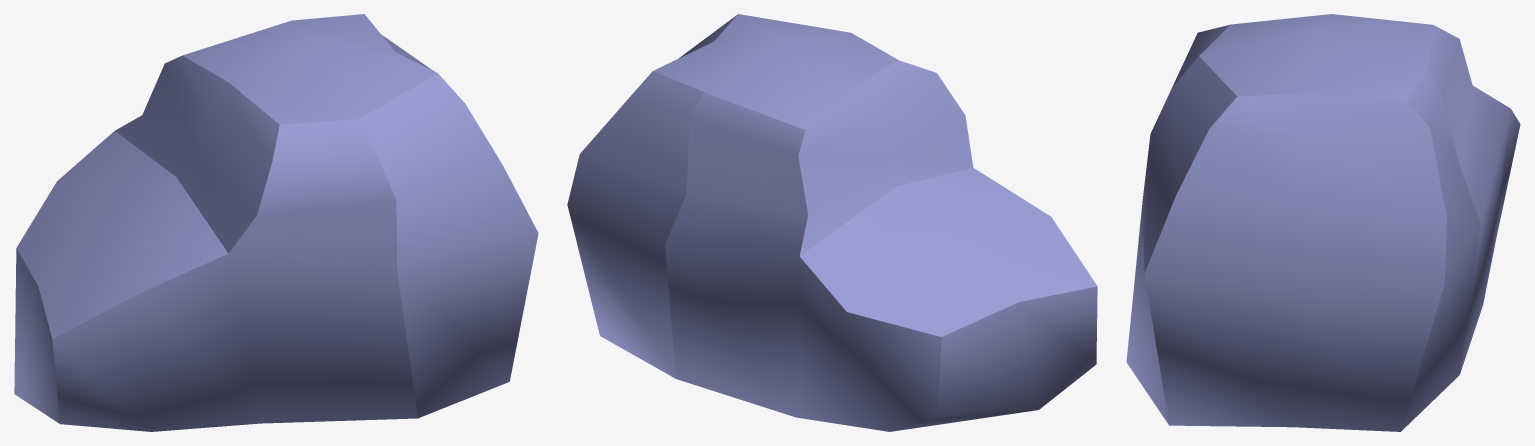
File: Rook_4.fbx
The picture shows the model from 3 angles, left to right: view 1: azimuth 30°, elevation 25°; view 2: azimuth 150°, elevation 25°; view 3: azimuth 270°, elevation 25°; orthographic projection. The views are drawn at different scales.
Visible parts, largest first — view 1: Cube.039; view 2: Cube.039; view 3: Cube.039.
Part boxes in pixels (bbox=[...]): Cube.039: bbox=[14, 14, 538, 431]; Cube.039: bbox=[567, 14, 1097, 431]; Cube.039: bbox=[1126, 14, 1520, 431].
Bounding box in the file's own units: 332 × 223 × 238.
